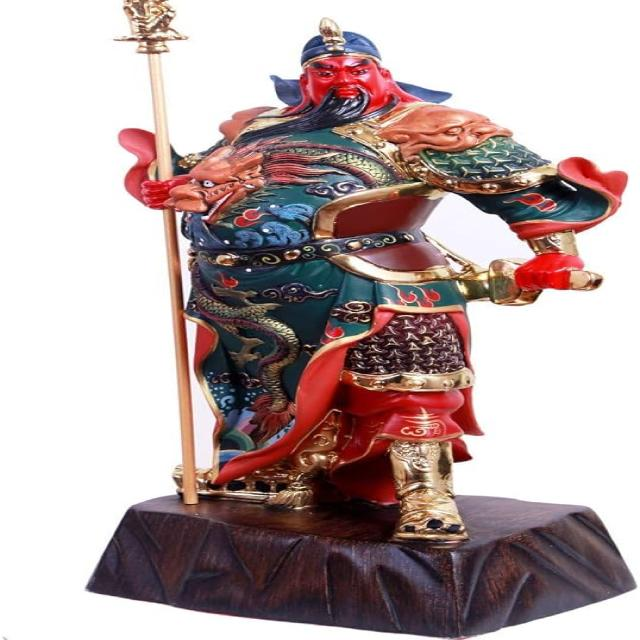Guan Yu: (112, 16, 629, 530)
